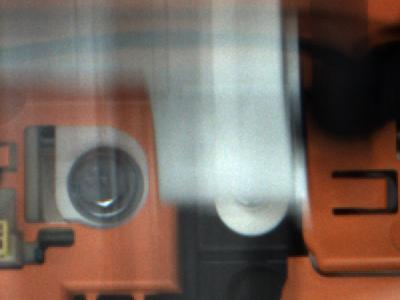nut_b: (63, 141, 146, 226)
